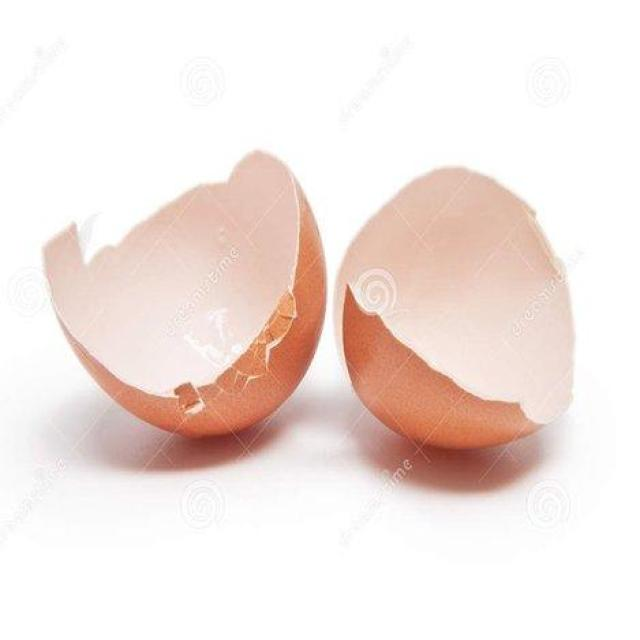organic: (40, 151, 328, 439), (334, 166, 577, 452)
